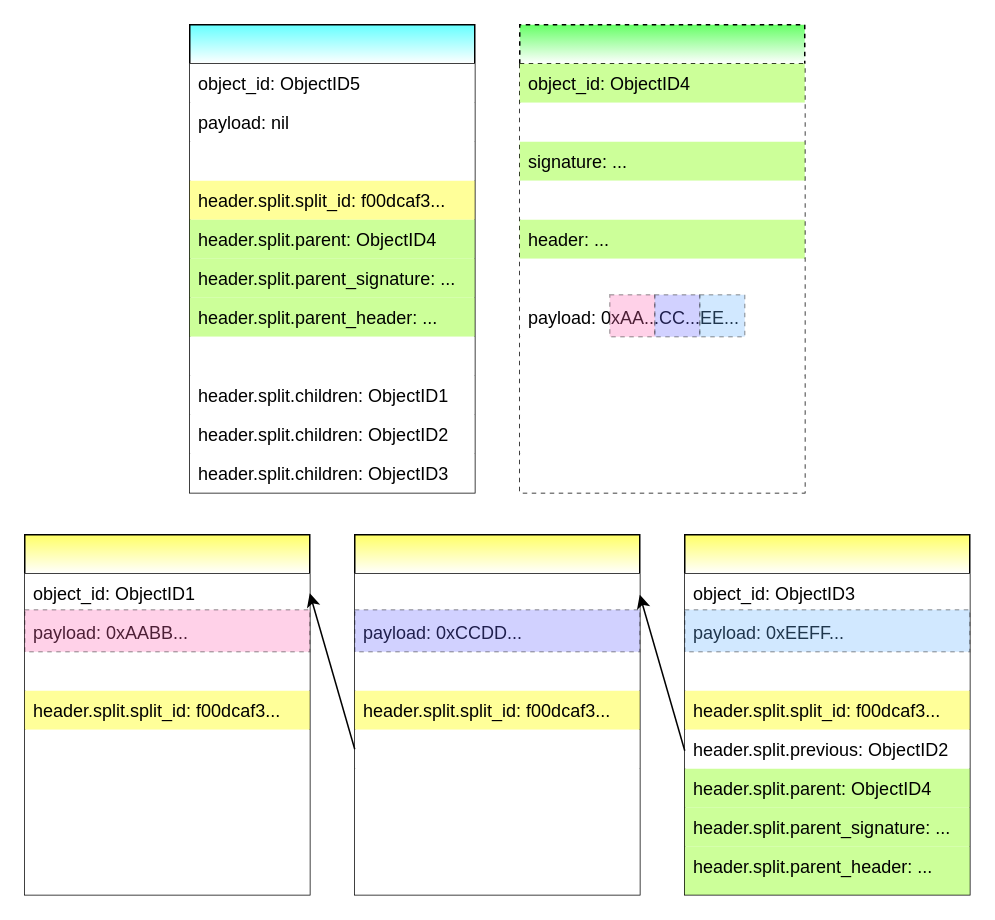
Some shapes in this 995 by 920 pixel diagram are drawn without their labels. Here are the shapes that lost their labels. From the top down, the box of each, then its label:
(188, 23, 475, 493): Link Object
(518, 23, 805, 493): Large Object
(354, 573, 639, 612): object_id: ObjectID2
(23, 533, 310, 895): Part 1 Object
(353, 533, 640, 895): Part 2 Object
(683, 533, 970, 895): Part 3 Object
(354, 729, 639, 768): header.split.previous: ObjectID1
